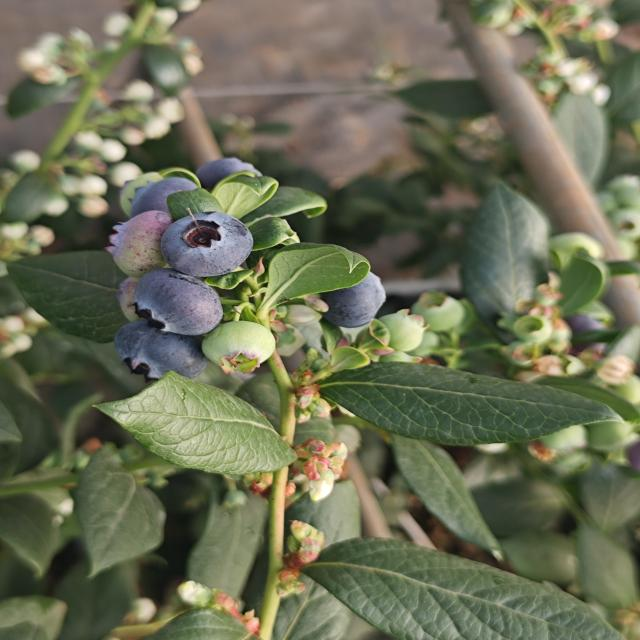ripe: (124, 270, 228, 336), (159, 209, 246, 279), (319, 257, 399, 332), (120, 329, 204, 389), (190, 154, 268, 199), (134, 173, 208, 215)
